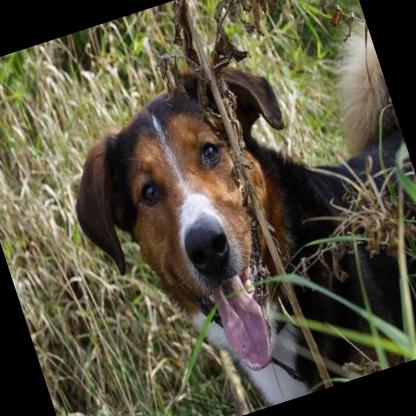Appenzeller: (41, 8, 416, 416)
